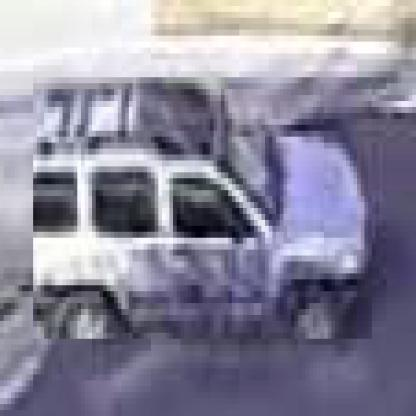car: (30, 78, 373, 346)
